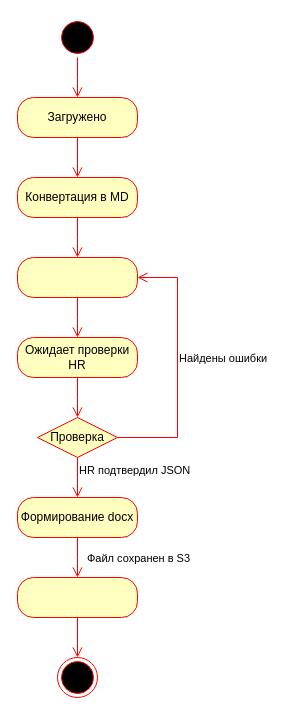
This 285x715 diagram has some shape labels left out. The centre of each missing label's shape, as x and y in pixels:
"Готово" belongs at pixel 77 597.
"Обработка резюме" belongs at pixel 77 277.
